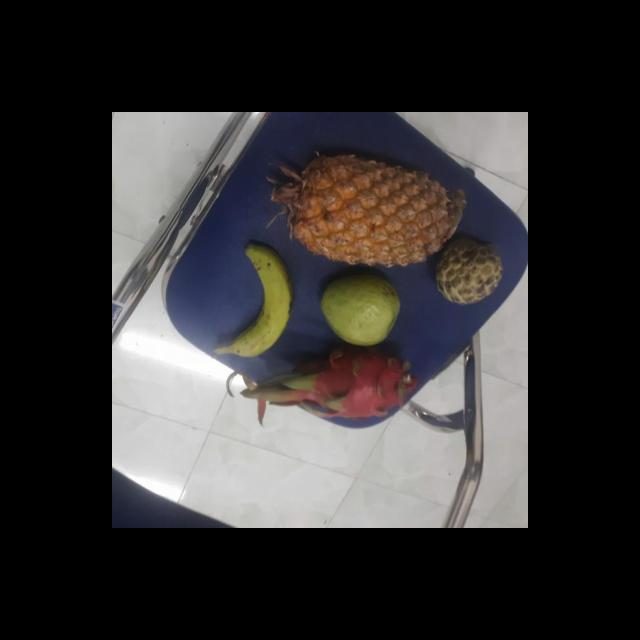Sakya fruit: (431, 236, 503, 304)
banana: (218, 247, 293, 355)
guava: (318, 274, 402, 349)
pineapple: (281, 156, 456, 268)
pitaya: (294, 342, 411, 428)
